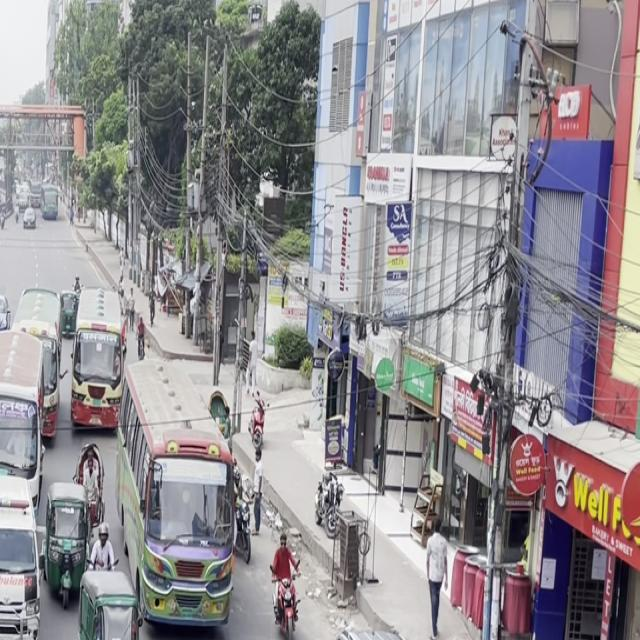bus: (123, 346, 238, 619), (0, 334, 55, 533), (67, 325, 126, 439)
car: (0, 535, 45, 639), (312, 613, 479, 640), (0, 285, 11, 340), (0, 628, 37, 640)
motorbike: (266, 528, 305, 640)
rickshaw: (40, 483, 97, 606), (70, 569, 149, 640), (176, 639, 284, 640)
